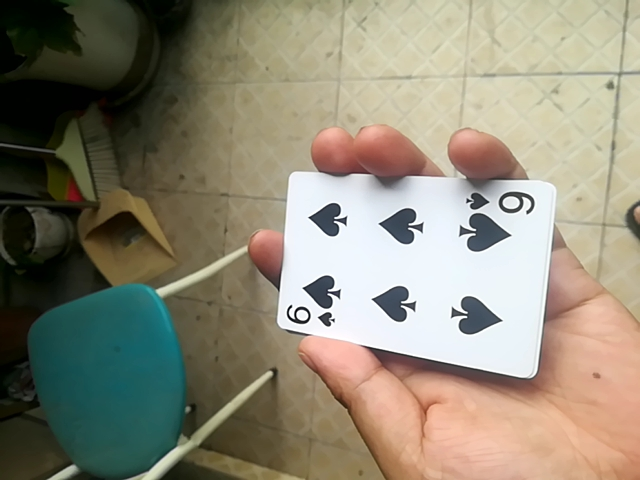ht 6: (276, 173, 552, 373)
